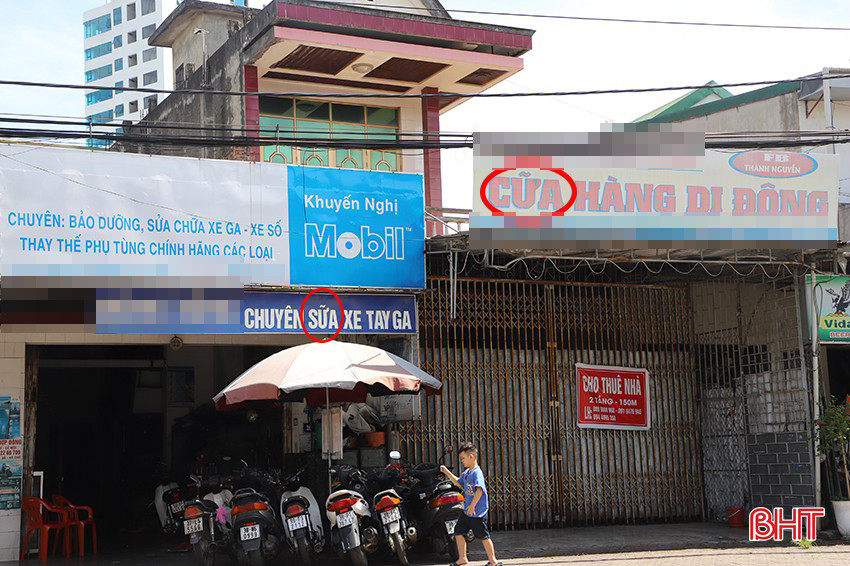bien_so: (378, 506, 404, 527), (335, 509, 357, 530), (182, 517, 204, 537), (239, 523, 261, 543), (287, 512, 308, 532), (169, 498, 187, 515)
